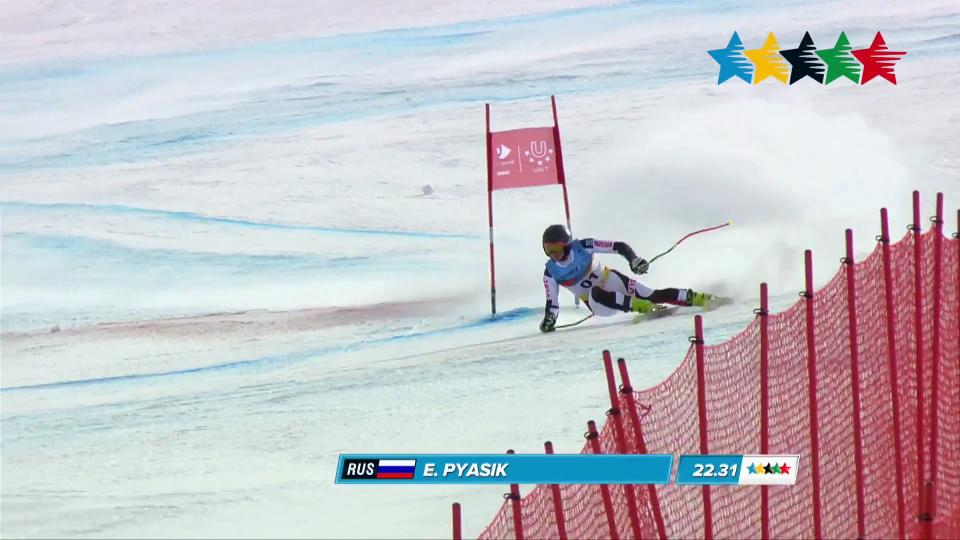gate: (460, 102, 516, 318)
